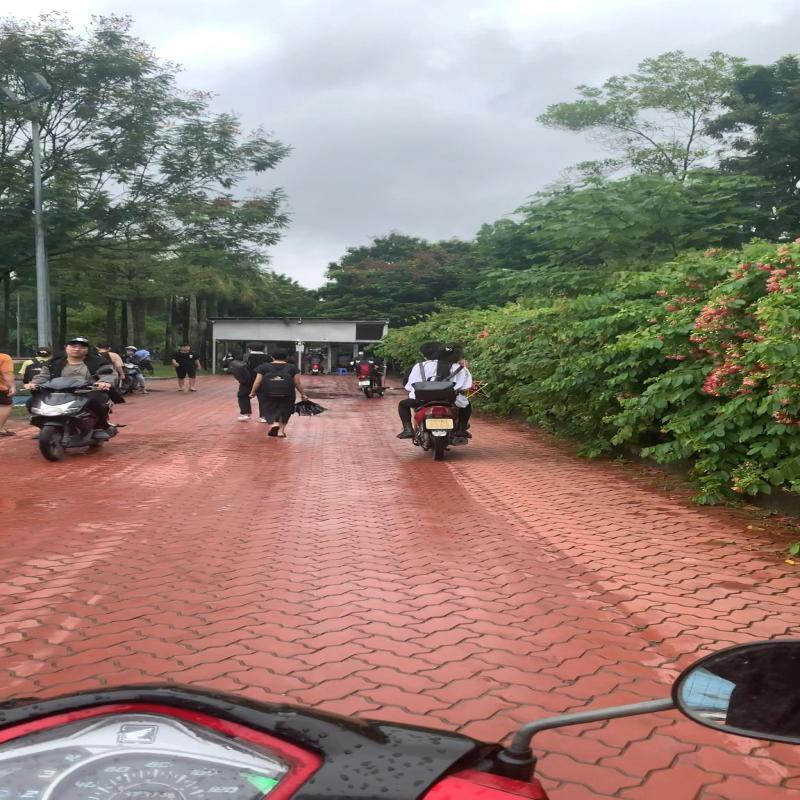licenseplate: (423, 418, 456, 431)
motorcyclist: (388, 339, 487, 462)
nohelmet: (436, 342, 465, 360), (418, 340, 442, 356)
